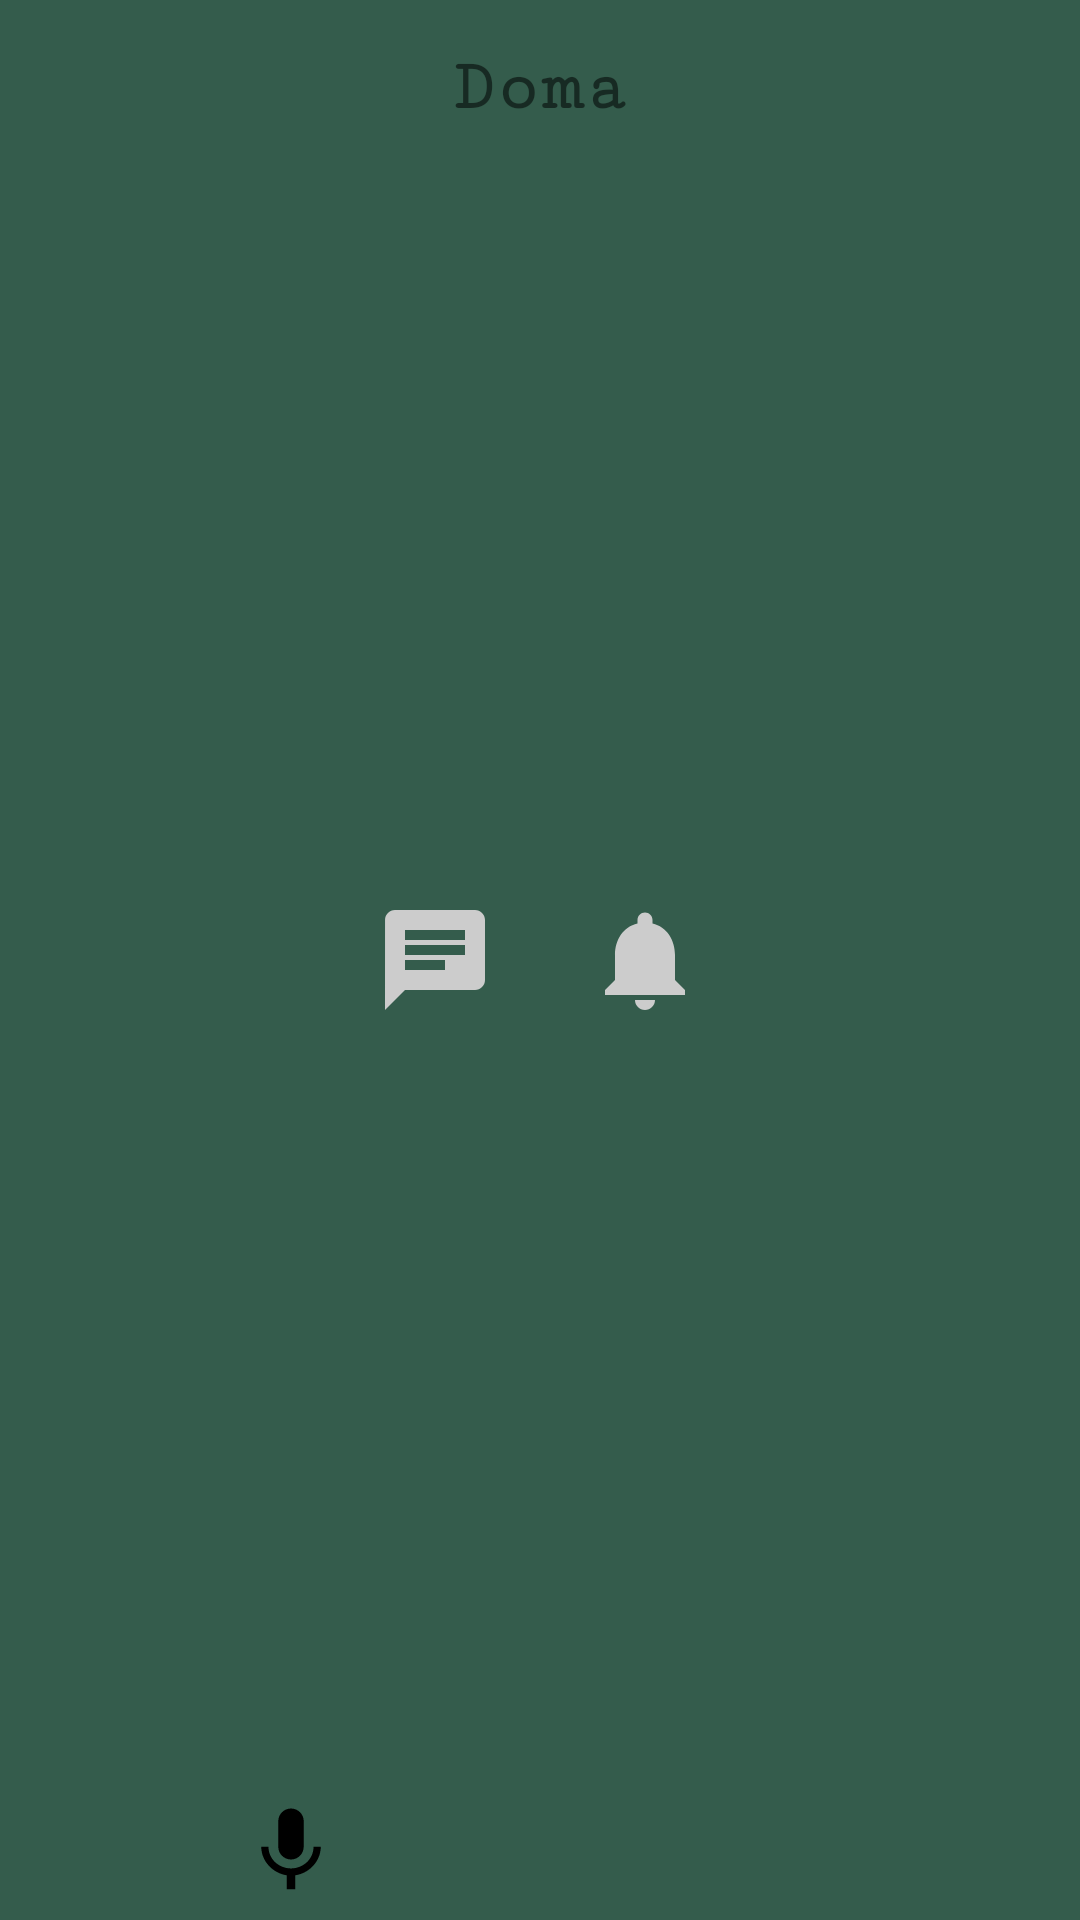

Icon bounding boxes for this 1080px×1920px phone screenshot, format {"x1": x1, "y1": y1, "x2": x2, "y2": y2}:
Botão de mensagens: {"x1": 385, "y1": 910, "x2": 485, "y2": 1010}
Botão de microfone: {"x1": 261, "y1": 1808, "x2": 321, "y2": 1889}
Botão de notificações: {"x1": 605, "y1": 912, "x2": 685, "y2": 1010}
